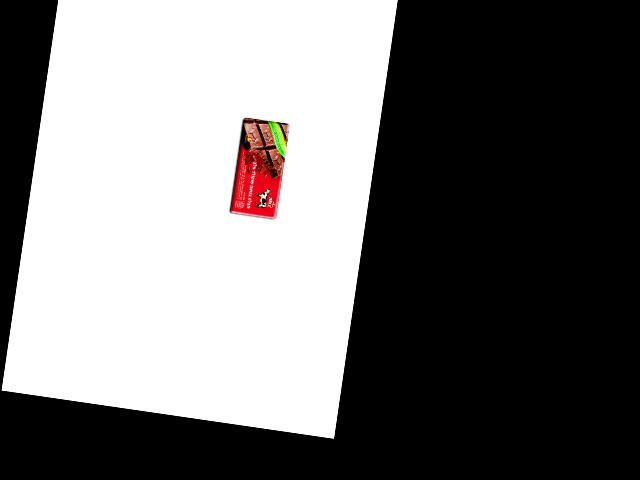chocolate: (224, 116, 291, 222)
